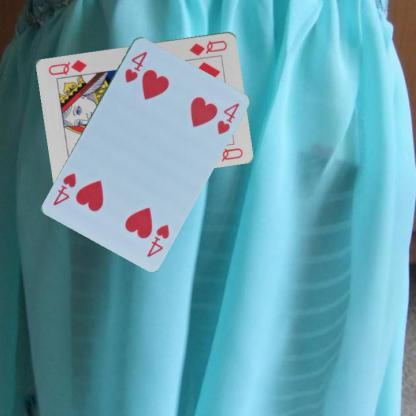4h: (144, 221, 170, 258), (122, 48, 148, 84)
Qd: (187, 38, 228, 56)
